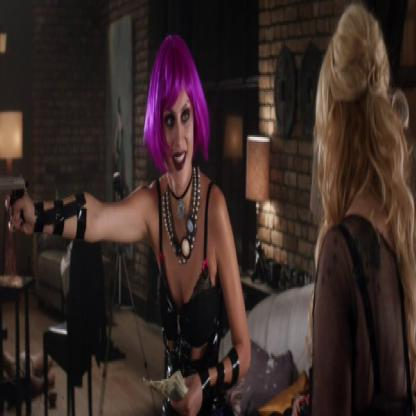Gun: (0, 169, 27, 222)
